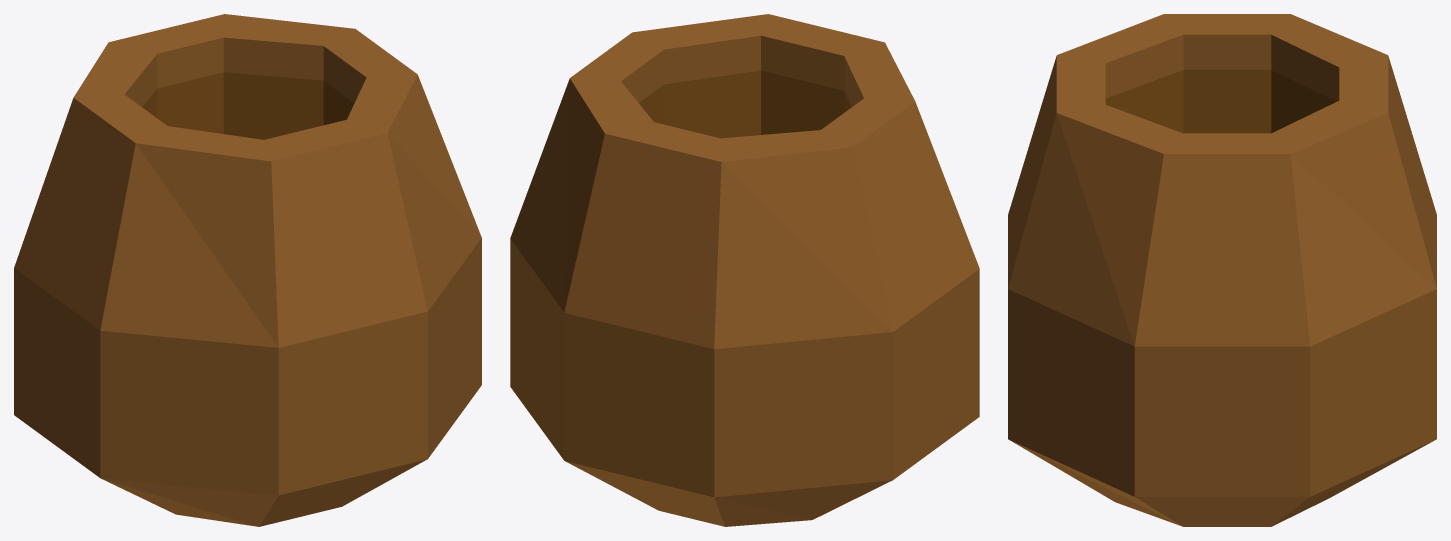
The model's file is inv_unfired_pot.obj.
The picture shows the model from 3 angles, left to right: view 1: azimuth 30°, elevation 25°; view 2: azimuth 150°, elevation 25°; view 3: azimuth 270°, elevation 25°; orthographic projection.
Bounding box in the file's own units: 0.3594 × 0.3516 × 0.3438.
